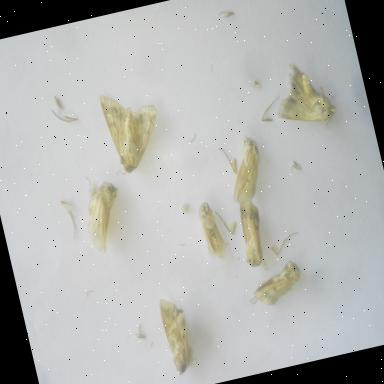abw: (96, 78, 173, 180), (264, 52, 346, 142), (73, 176, 134, 260), (213, 128, 274, 212), (154, 290, 204, 382), (240, 253, 310, 314), (228, 190, 276, 277), (192, 196, 232, 269)
